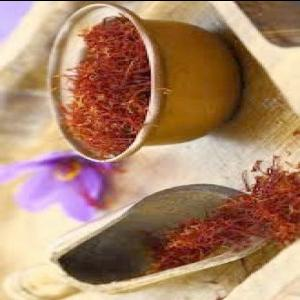Saffron: (0, 144, 119, 223)
